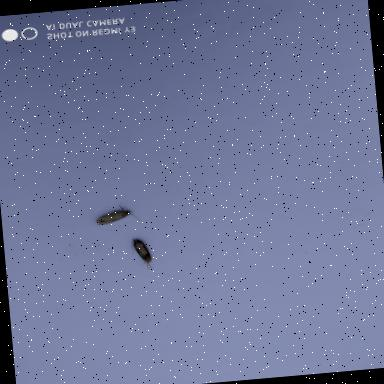pbw: (94, 198, 144, 228), (130, 236, 156, 272)
